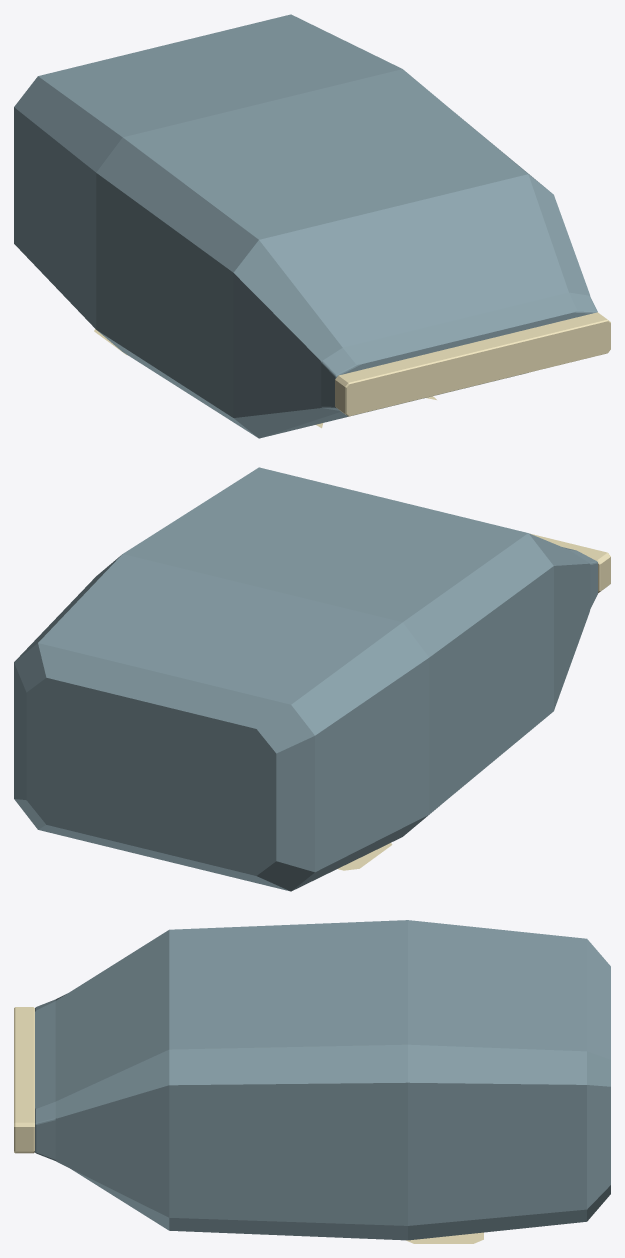
The model's file is cat_food.glb.
3 views of the same model, one above another, from view 1: azimuth 30°, elevation 25°; view 2: azimuth 150°, elevation 25°; view 3: azimuth 270°, elevation 25° (orthographic). The views are drawn at different scales.
Parts seen in each view (by area): view 1: cat_food; view 2: cat_food; view 3: cat_food.
Part boxes in pixels (<box>): cat_food: <box>14,14,610,438</box>; cat_food: <box>14,467,610,891</box>; cat_food: <box>14,920,610,1243</box>.
Size of the model in its own units: 0.1175 by 0.0799 by 0.2.
